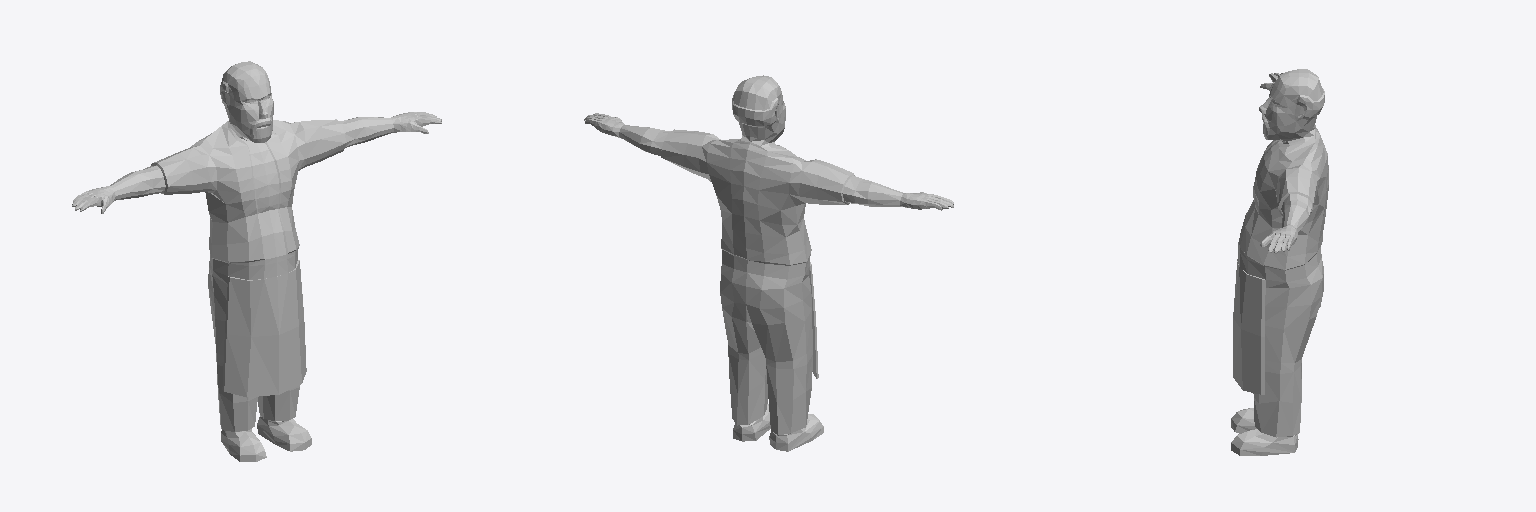
3 views of the same model, side by side, from view 1: azimuth 30°, elevation 25°; view 2: azimuth 150°, elevation 25°; view 3: azimuth 270°, elevation 25° (orthographic).
Parts seen in each view (by area): view 1: landlord_(1); view 2: landlord_(1); view 3: landlord_(1).
Part boxes in pixels (x1,y1,x2,y2): landlord_(1): (72, 61, 441, 461); landlord_(1): (584, 75, 953, 451); landlord_(1): (1231, 69, 1328, 455).
Bounding box in the file's own units: 1.89 × 1.81 × 0.4412.